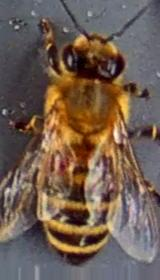varroa_mite: (36, 143, 74, 184)
